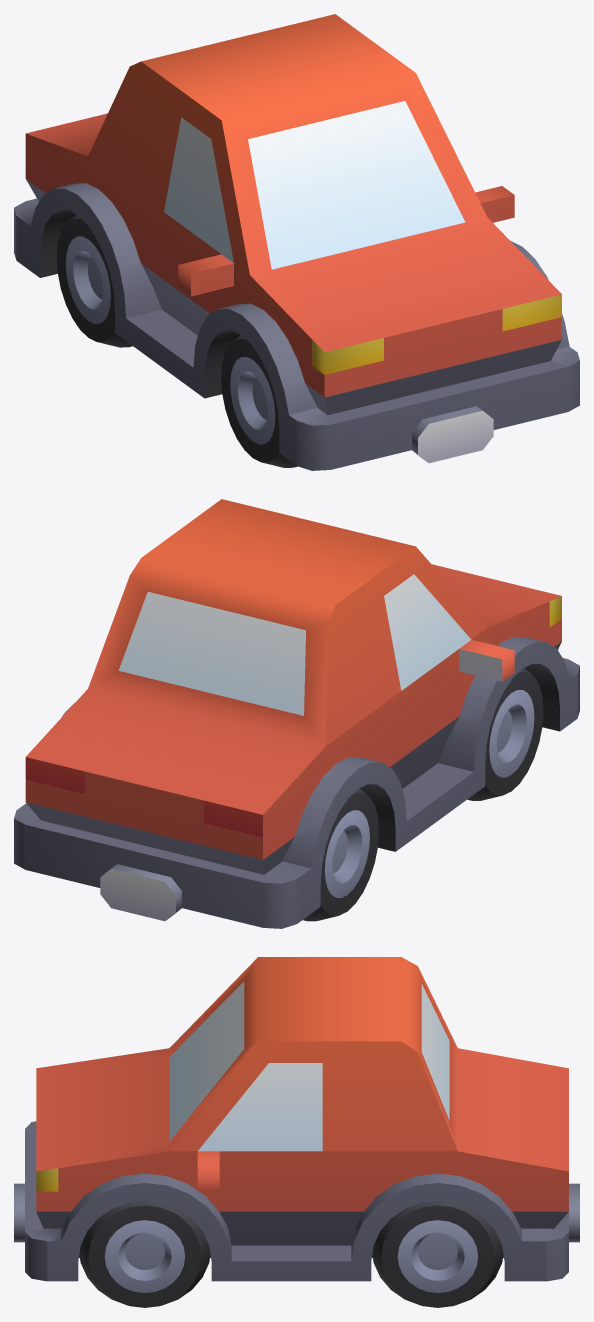
File: merc_e.glb
3 views of the same model, one above another, from view 1: azimuth 30°, elevation 25°; view 2: azimuth 150°, elevation 25°; view 3: azimuth 270°, elevation 25° (orthographic). The views are drawn at different scales.
Parts seen in each view (by area): view 1: body, wheel-front-right, wheel-back-right; view 2: body, wheel-back-right, wheel-front-right; view 3: body, wheel-back-left, wheel-front-left.
Boxes of the visible parts, x1=… form: body: x1=14, y1=14, x2=579, y2=470; wheel-front-right: x1=221, y1=335, x2=297, y2=467; wheel-back-right: x1=56, y1=214, x2=132, y2=347; body: x1=14, y1=499, x2=579, y2=928; wheel-back-right: x1=303, y1=788, x2=378, y2=921; wheel-front-right: x1=467, y1=668, x2=543, y2=800; body: x1=14, y1=957, x2=579, y2=1281; wheel-back-left: x1=372, y1=1201, x2=503, y2=1307; wheel-front-left: x1=79, y1=1201, x2=210, y2=1307.
Bounding box in the file's own units: 1.5 × 1.3 × 2.55.
Materials: 1 (1 with a texture image).
